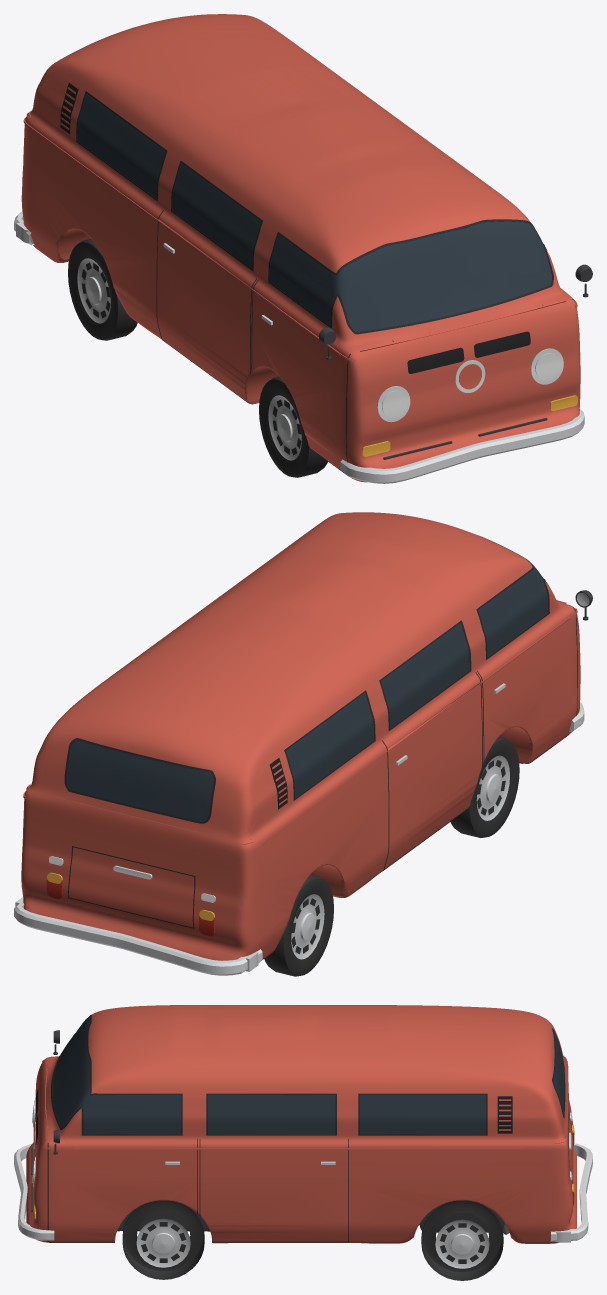
3 renders of one model, top to bottom at view 1: azimuth 30°, elevation 25°; view 2: azimuth 150°, elevation 25°; view 3: azimuth 270°, elevation 25°, orthographic. The views are drawn at different scales.
Visible parts, largest first — view 1: paint, glass, trim, wheel_rr, wheel_fr, headlights; view 2: paint, glass, trim, wheel_rr, wheel_fr; view 3: paint, glass, trim, wheel_rl, wheel_fl.
Boxes of the visible parts, left/top/right/bottom form: paint: left=21, top=14, right=580, bottom=482; glass: left=77, top=93, right=551, bottom=331; trim: left=14, top=83, right=592, bottom=483; wheel_rr: left=68, top=238, right=137, bottom=340; wheel_fr: left=259, top=376, right=327, bottom=477; headlights: left=382, top=353, right=560, bottom=417; paint: left=21, top=512, right=580, bottom=960; glass: left=66, top=565, right=548, bottom=821; trim: left=14, top=535, right=592, bottom=975; wheel_rr: left=264, top=874, right=333, bottom=976; wheel_fr: left=450, top=736, right=519, bottom=837; paint: left=26, top=1005, right=576, bottom=1243; glass: left=52, top=1016, right=564, bottom=1134; trim: left=14, top=1014, right=592, bottom=1242; wheel_rl: left=421, top=1200, right=503, bottom=1280; wheel_fl: left=122, top=1200, right=204, bottom=1279.
Size of the model in its own units: 2 by 1.93 by 4.65.
